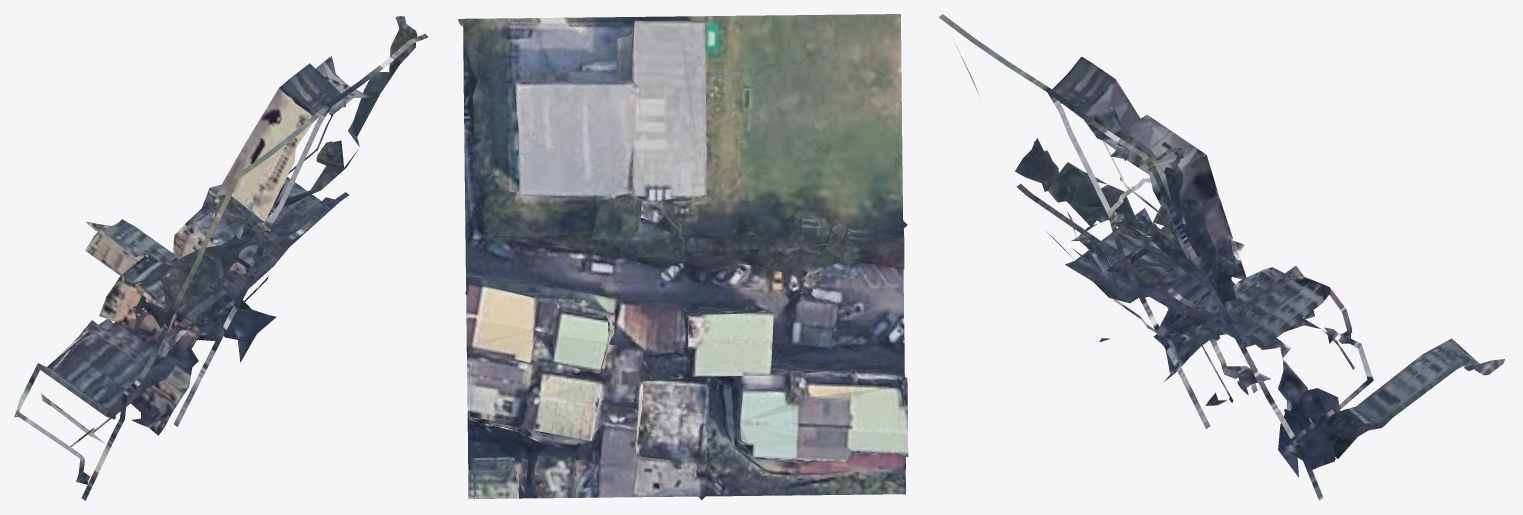
The picture shows the model from 3 angles, left to right: view 1: azimuth 30°, elevation 25°; view 2: azimuth 150°, elevation 25°; view 3: azimuth 270°, elevation 25°; orthographic projection. The views are drawn at different scales.
Size of the model in its own units: 83.13 by 73.11 by 94.95.
1 material, 1 textured.
